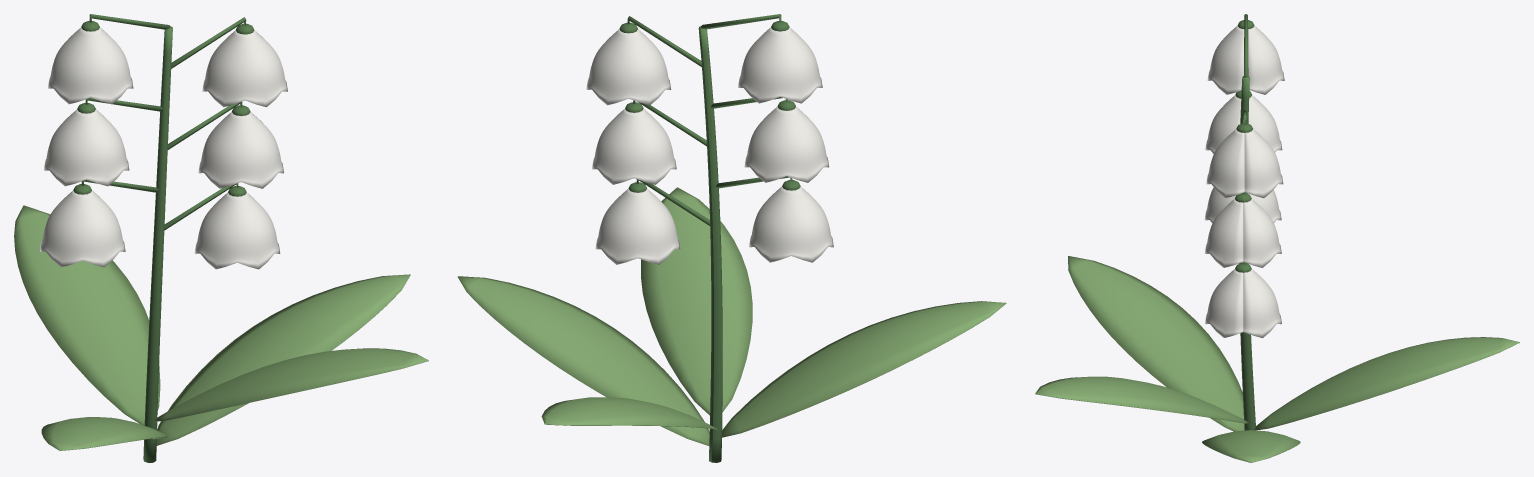
The model's file is lily-common-v2.glb.
3 renders of one model, left to right at view 1: azimuth 30°, elevation 25°; view 2: azimuth 150°, elevation 25°; view 3: azimuth 270°, elevation 25°, orthographic. The views are drawn at different scales.
Parts seen in each view (by area): view 1: lily-common-v2-leaf, lily-common-v2-petal, lily-common-v2-stem; view 2: lily-common-v2-leaf, lily-common-v2-petal, lily-common-v2-stem; view 3: lily-common-v2-leaf, lily-common-v2-petal, lily-common-v2-stem.
Boxes of the visible parts, box(x1,y1,x2,y2) form: lily-common-v2-leaf: box(14, 205, 428, 450); lily-common-v2-petal: box(40, 27, 287, 269); lily-common-v2-stem: box(73, 14, 254, 462); lily-common-v2-leaf: box(457, 187, 1006, 445); lily-common-v2-petal: box(586, 27, 833, 264); lily-common-v2-stem: box(619, 14, 800, 462); lily-common-v2-leaf: box(1035, 256, 1519, 462); lily-common-v2-petal: box(1204, 25, 1284, 338); lily-common-v2-stem: box(1235, 14, 1255, 430).
Size of the model in its own units: 1.33 by 1.3 by 1.37.
